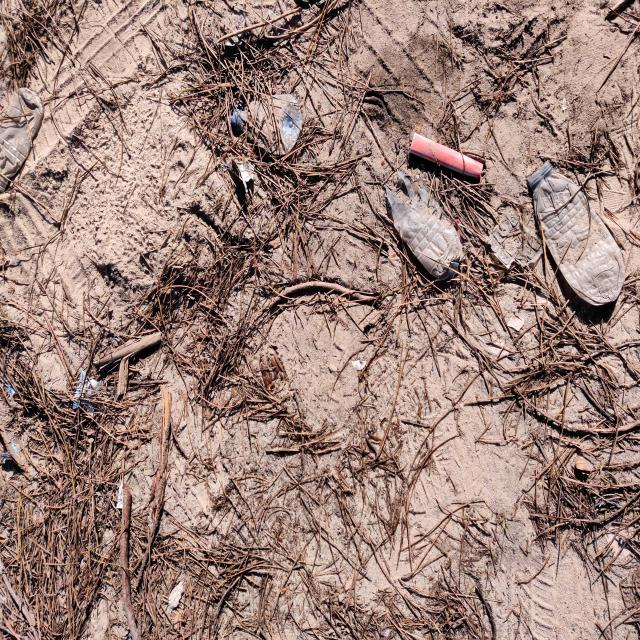litter: (506, 133, 637, 345), (363, 158, 483, 309), (225, 57, 318, 193)
